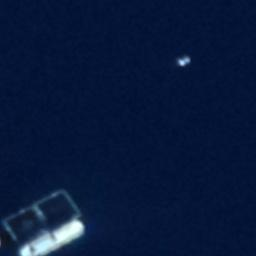square_solid: (29, 185, 89, 235), (1, 203, 51, 252)
